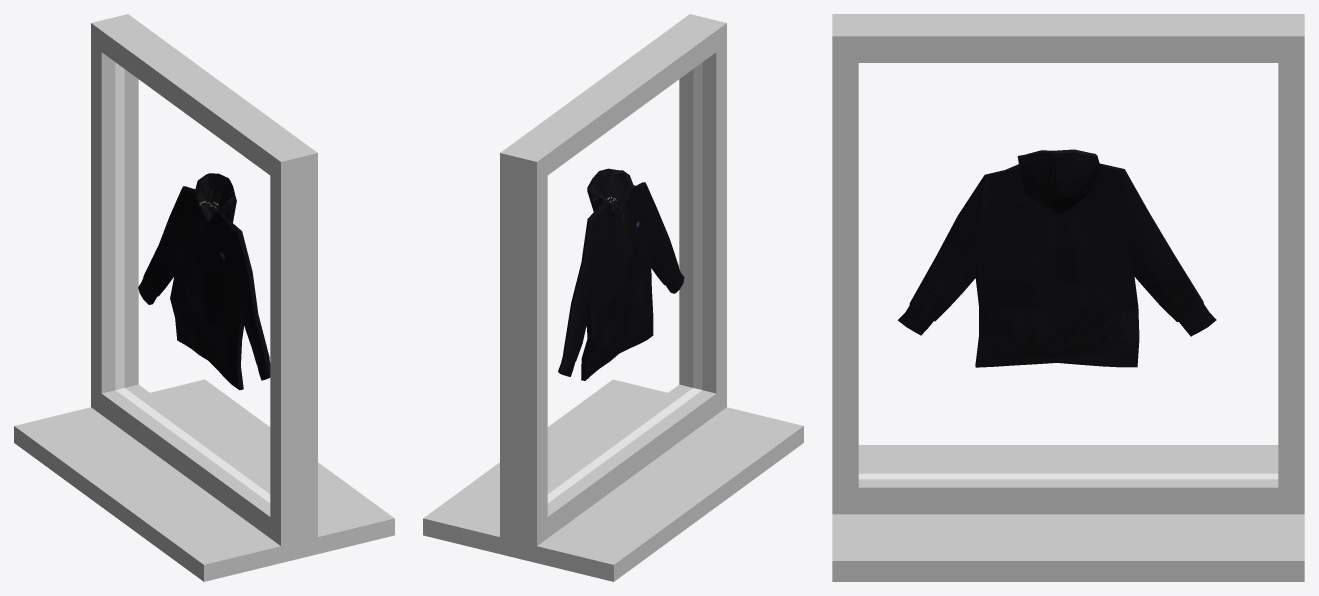
File: hoody.glb
3 views of the same model, side by side, from view 1: azimuth 30°, elevation 25°; view 2: azimuth 150°, elevation 25°; view 3: azimuth 270°, elevation 25° (orthographic). The views are drawn at different scales.
Visible parts, largest first — view 1: Cube.027, Plane.014; view 2: Cube.027, Plane.014; view 3: Cube.027, Plane.014.
Part boxes in pixels (x1=…): Cube.027: x1=14, y1=14, x2=394, y2=581; Plane.014: x1=138, y1=173, x2=270, y2=390; Cube.027: x1=423, y1=14, x2=803, y2=581; Plane.014: x1=558, y1=168, x2=684, y2=380; Cube.027: x1=832, y1=14, x2=1304, y2=581; Plane.014: x1=898, y1=149, x2=1216, y2=367.
Size of the model in its own units: 0.362 by 0.7276 by 0.6242.
3 materials, 1 textured.
